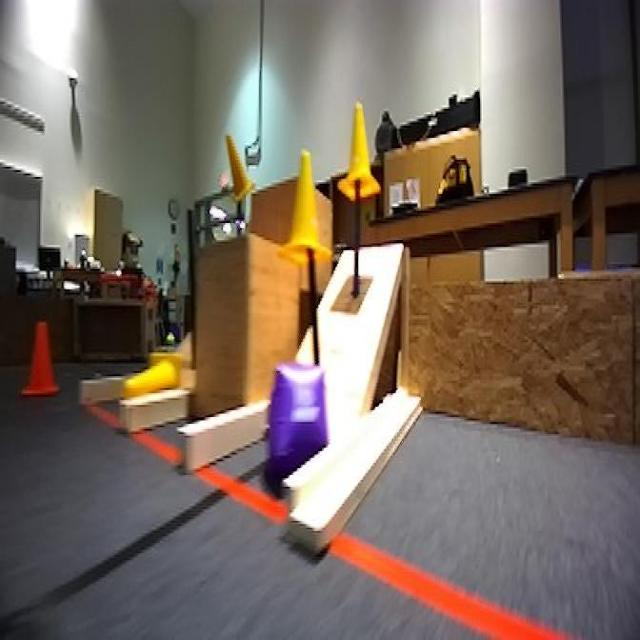frc_cone: (283, 150, 334, 262), (338, 99, 381, 201), (122, 351, 184, 404), (224, 128, 254, 204)
frc_cube: (261, 359, 330, 477)
